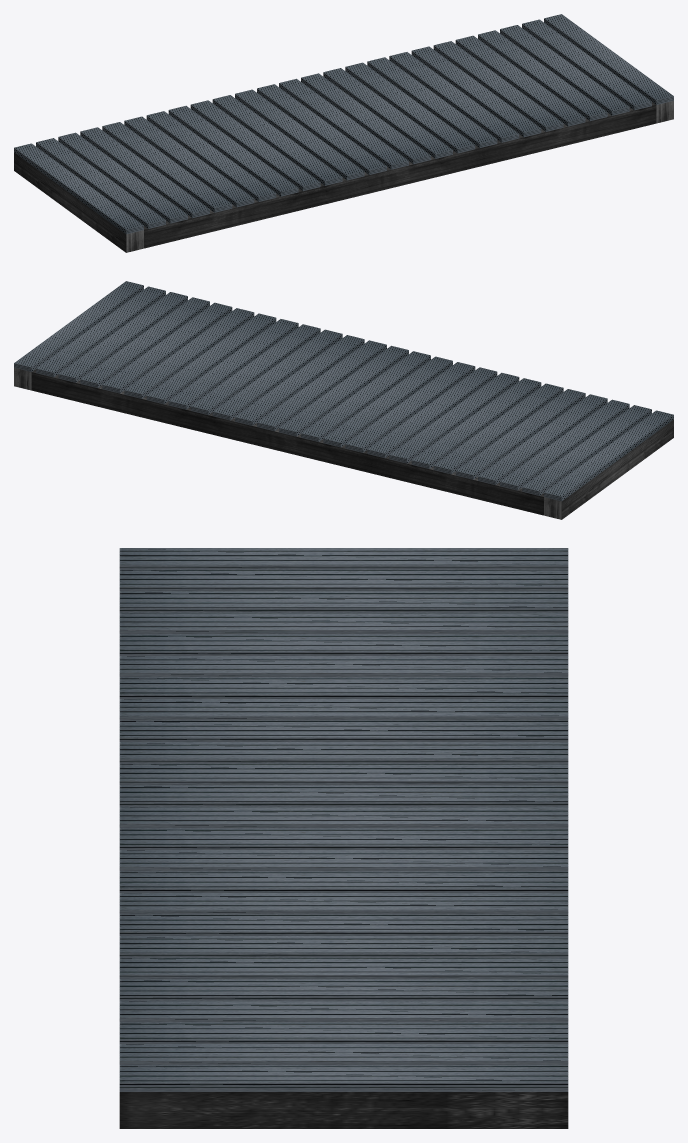
File: Terrace_Floor.fbx
3 views of the same model, one above another, from view 1: azimuth 30°, elevation 25°; view 2: azimuth 150°, elevation 25°; view 3: azimuth 270°, elevation 25° (orthographic). The views are drawn at different scales.
Visible parts, largest first — view 1: Terrace_H; view 2: Terrace_H; view 3: Terrace_H.
Part boxes in pixels (<box>): Terrace_H: <box>14,14,673,252</box>; Terrace_H: <box>14,281,673,519</box>; Terrace_H: <box>119,548,568,1128</box>.
Size of the model in its own units: 620 by 25 by 220.
3 materials, 3 textured.
